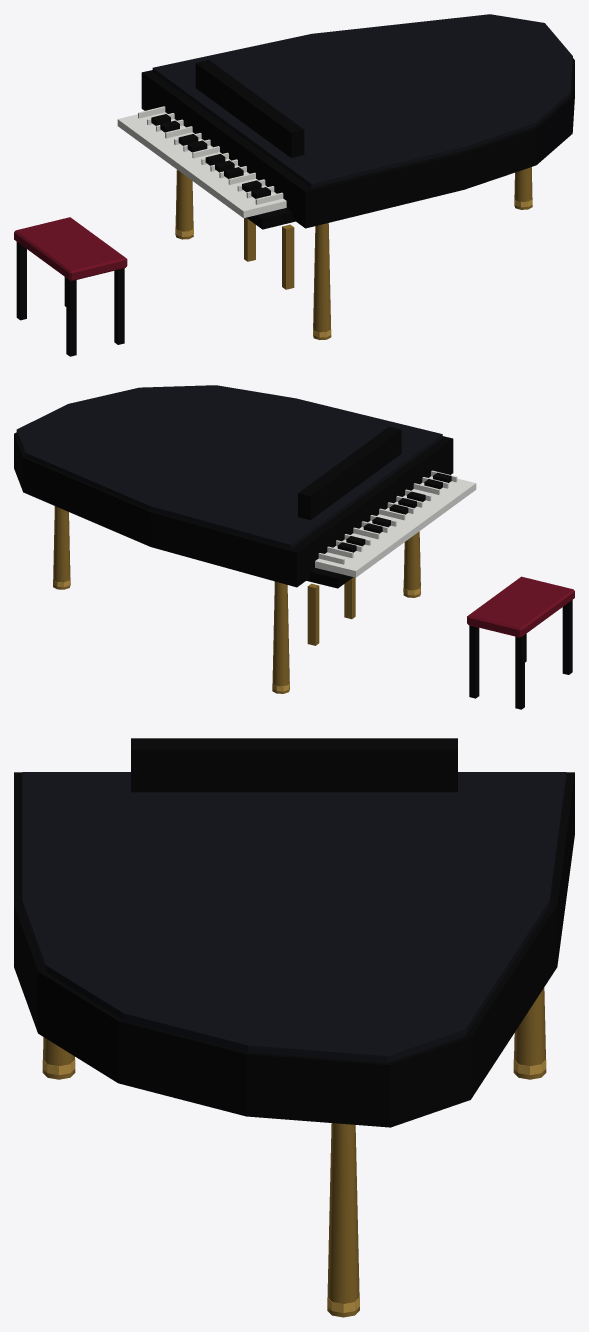
Rendered from piano_grand.glb.
The picture shows the model from 3 angles, top to bottom: view 1: azimuth 30°, elevation 25°; view 2: azimuth 150°, elevation 25°; view 3: azimuth 270°, elevation 25°; orthographic projection. The views are drawn at different scales.
Visible parts, largest first — view 1: piano_grand; view 2: piano_grand; view 3: piano_grand.
Boxes of the visible parts, left/top/right/bottom form: piano_grand: left=14, top=14, right=574, bottom=356; piano_grand: left=14, top=385, right=574, bottom=709; piano_grand: left=14, top=738, right=574, bottom=1317.
Bounding box in the file's own units: 3.22 × 1.1 × 1.72.
